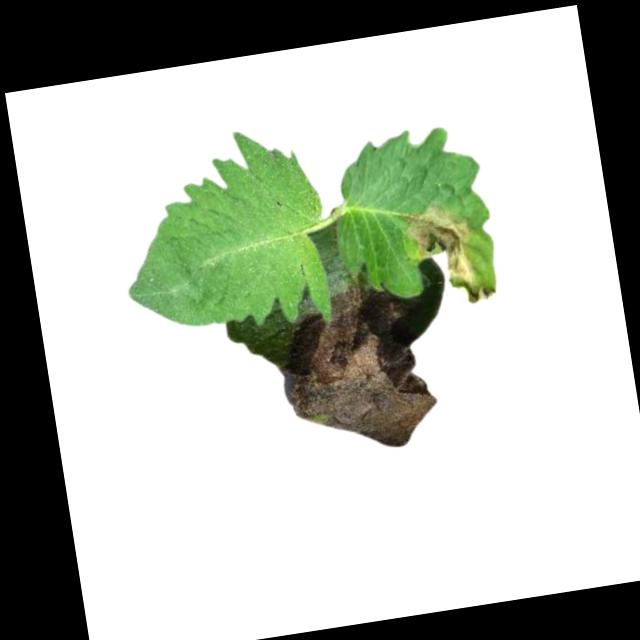Late_blight: (270, 276, 457, 463), (396, 198, 497, 315)
healthy: (105, 120, 339, 351)
